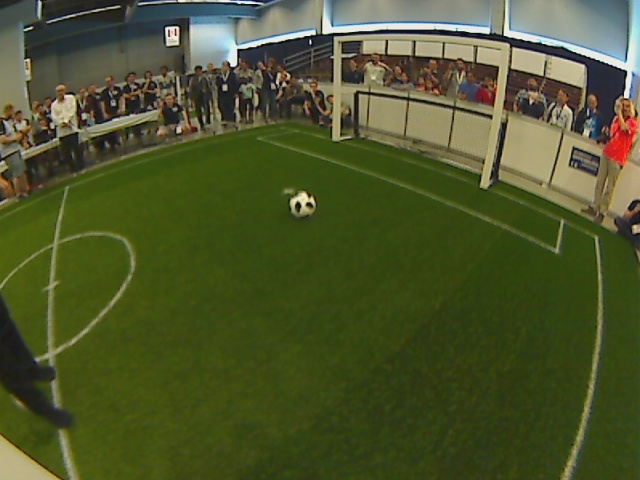ball: (285, 189, 317, 219)
